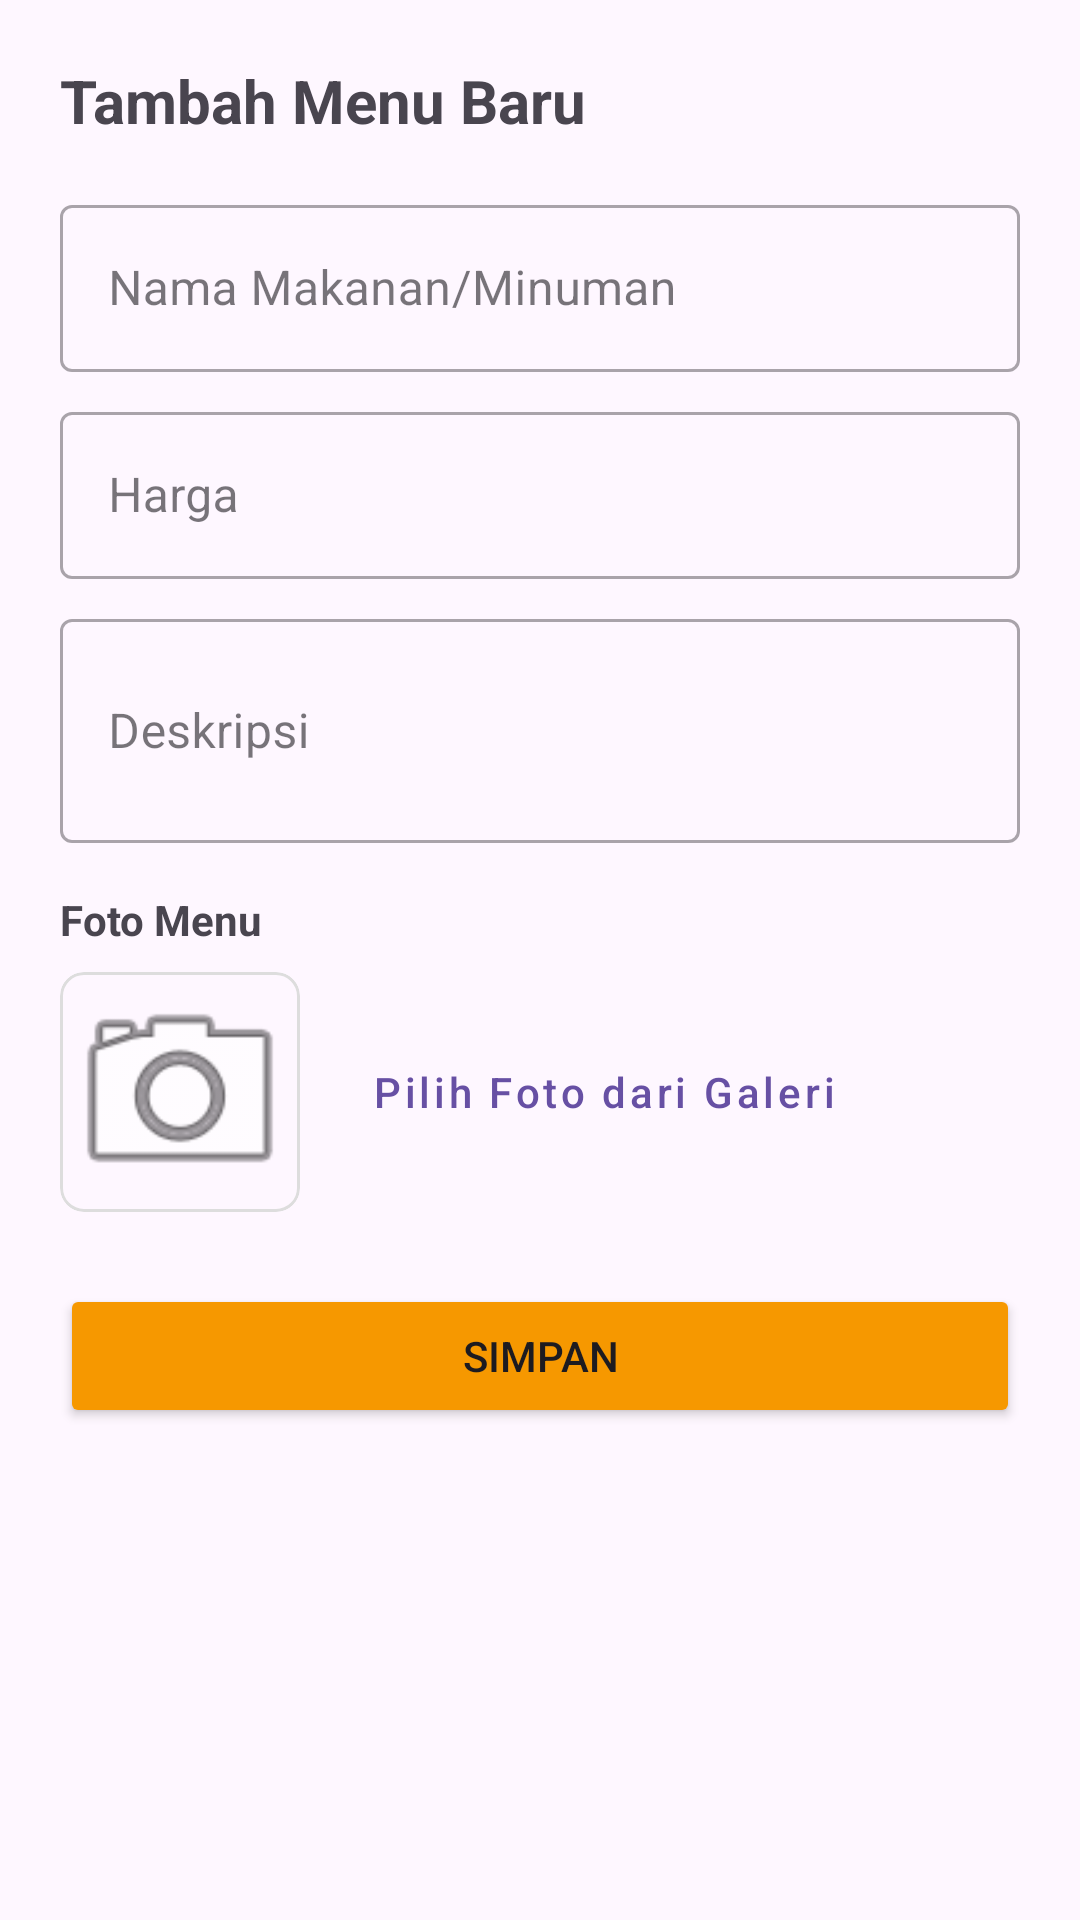

Where to tap for icons on this 1080 × 1920 app screen, as (x=x, y=y):
camera: (x=180, y=1092)
